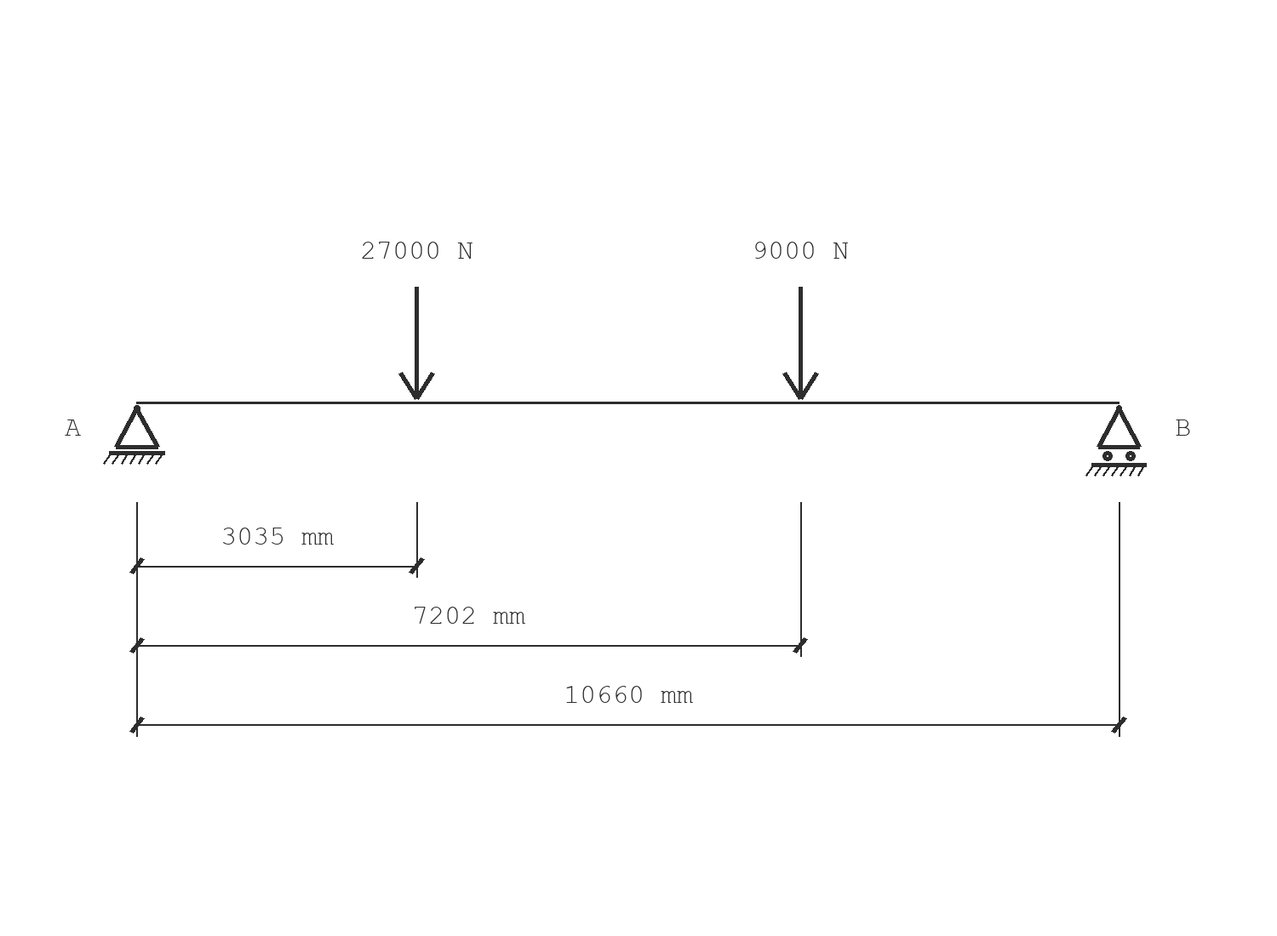pin_support: (103, 405, 165, 465)
point_load: (398, 287, 435, 400), (782, 287, 819, 400)
roller_support: (1085, 405, 1147, 477)
